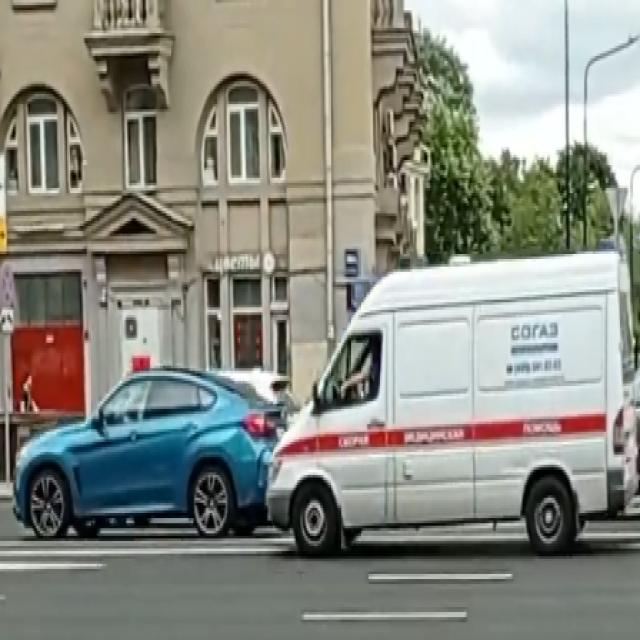ambulance: (267, 251, 635, 556)
non emergency car: (14, 355, 289, 536)
